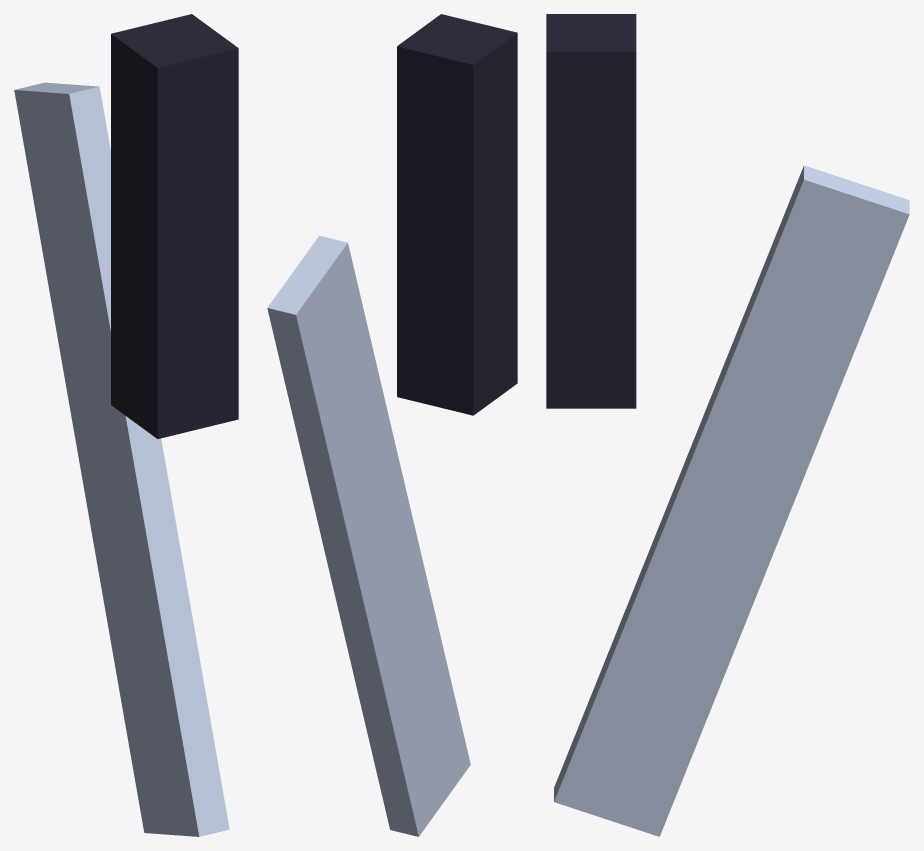
File: boss_spectre_arm_r.obj
3 renders of one model, left to right at view 1: azimuth 30°, elevation 25°; view 2: azimuth 150°, elevation 25°; view 3: azimuth 270°, elevation 25°, orthographic. The views are drawn at different scales.
Visible parts, largest first — view 1: blade, body; view 2: blade, body; view 3: blade, body.
Boxes of the visible parts, x1,y1,x2,y2 form: blade: [14, 82, 229, 836]; body: [111, 14, 238, 438]; blade: [267, 235, 470, 836]; body: [397, 14, 517, 415]; blade: [554, 165, 909, 836]; body: [546, 14, 636, 408].
Bounding box in the file's own units: 0.16 × 1.54 × 0.6463.
